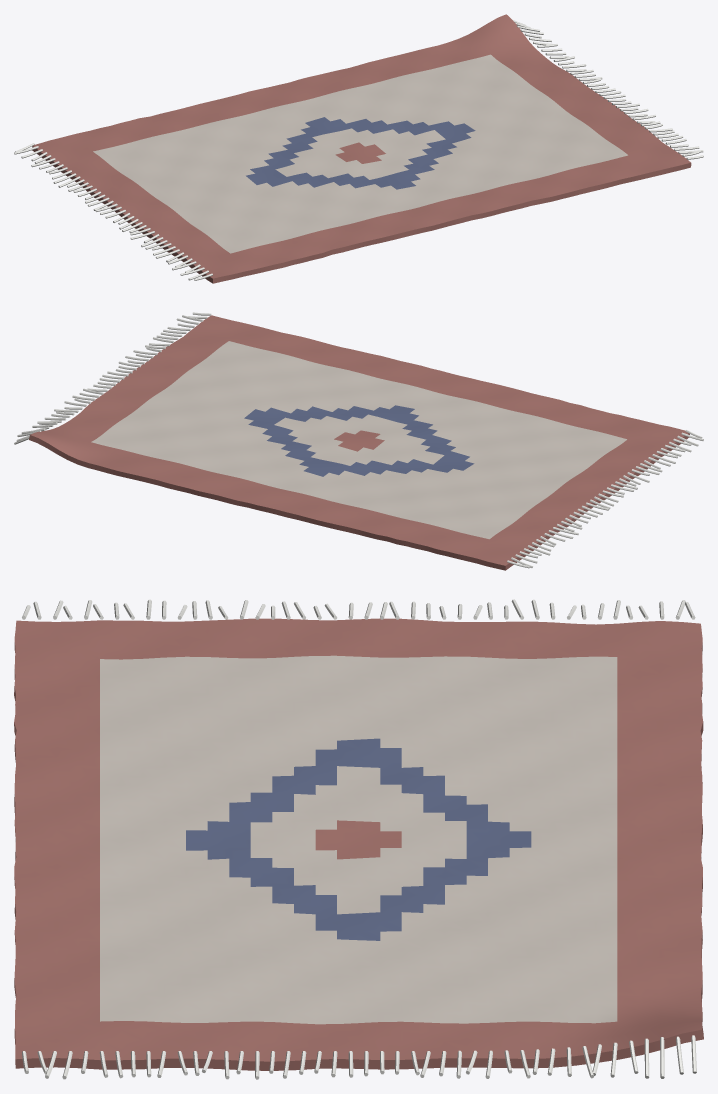
Rendered from textiles_rug.fbx.
The picture shows the model from 3 angles, top to bottom: view 1: azimuth 30°, elevation 25°; view 2: azimuth 150°, elevation 25°; view 3: azimuth 270°, elevation 25°; orthographic projection. The views are drawn at different scales.
Parts seen in each view (by area): view 1: textiles_rug; view 2: textiles_rug; view 3: textiles_rug.
Part boxes in pixels (x1,y1,x2,y2): textiles_rug: [14, 14, 703, 283]; textiles_rug: [14, 312, 703, 570]; textiles_rug: [14, 599, 703, 1079].
Size of the model in its own units: 1.31 by 0.0504 by 0.7998.
